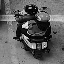mobil: (10, 7, 54, 55)
